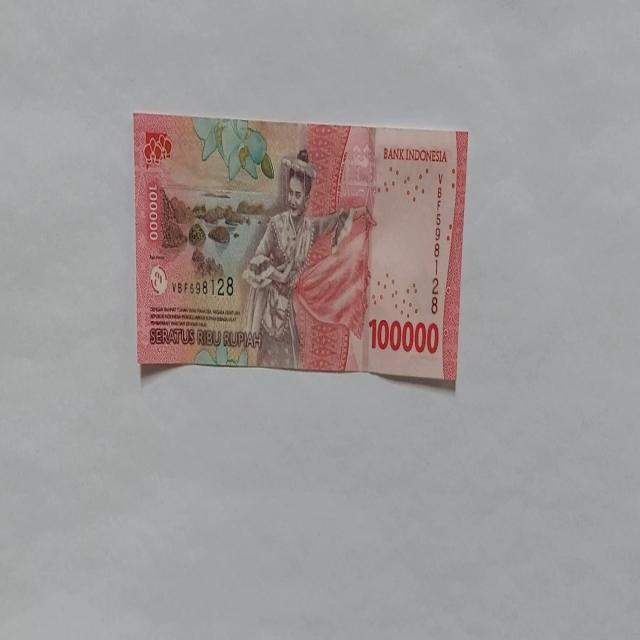seratus ribu rupiah: (131, 112, 471, 393), (238, 148, 372, 370)
